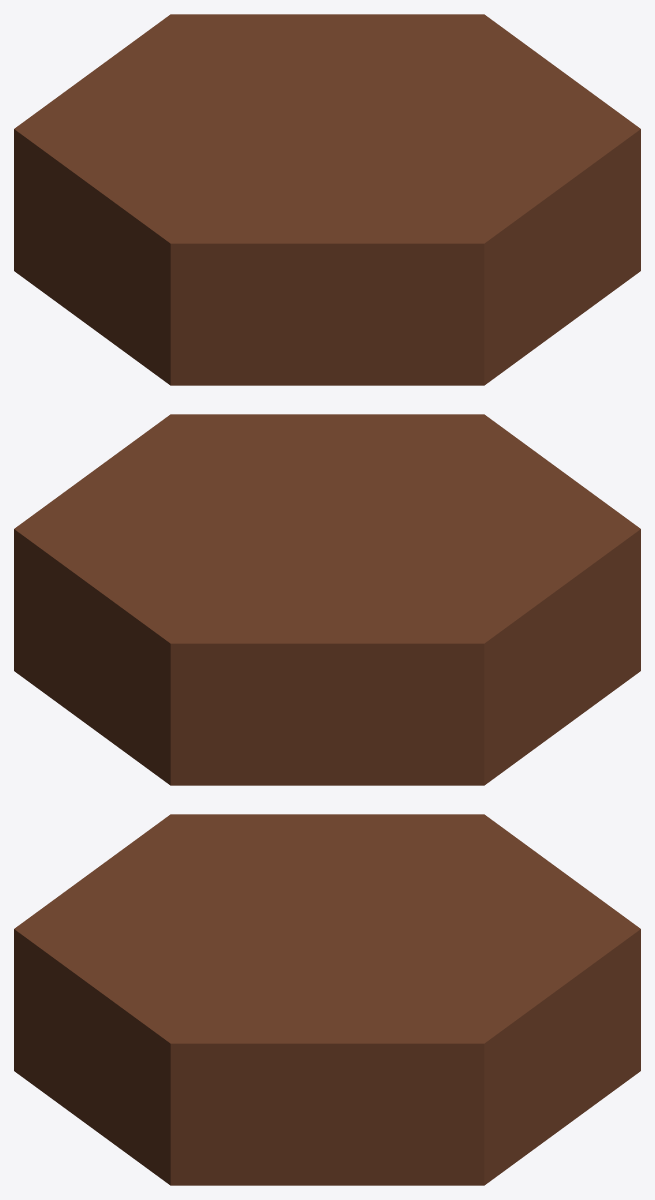
Rendered from _wooden_wall_3.glb.
3 views of the same model, one above another, from view 1: azimuth 30°, elevation 25°; view 2: azimuth 150°, elevation 25°; view 3: azimuth 270°, elevation 25° (orthographic).
Parts seen in each view (by area): view 1: WoodenWallInside; view 2: WoodenWallInside; view 3: WoodenWallInside.
Part boxes in pixels (x1=…): WoodenWallInside: x1=14, y1=14, x2=640, y2=385; WoodenWallInside: x1=14, y1=414, x2=640, y2=785; WoodenWallInside: x1=14, y1=814, x2=640, y2=1185.
Size of the model in its own units: 1.73 by 0.5 by 2.
1 material, 1 textured.
